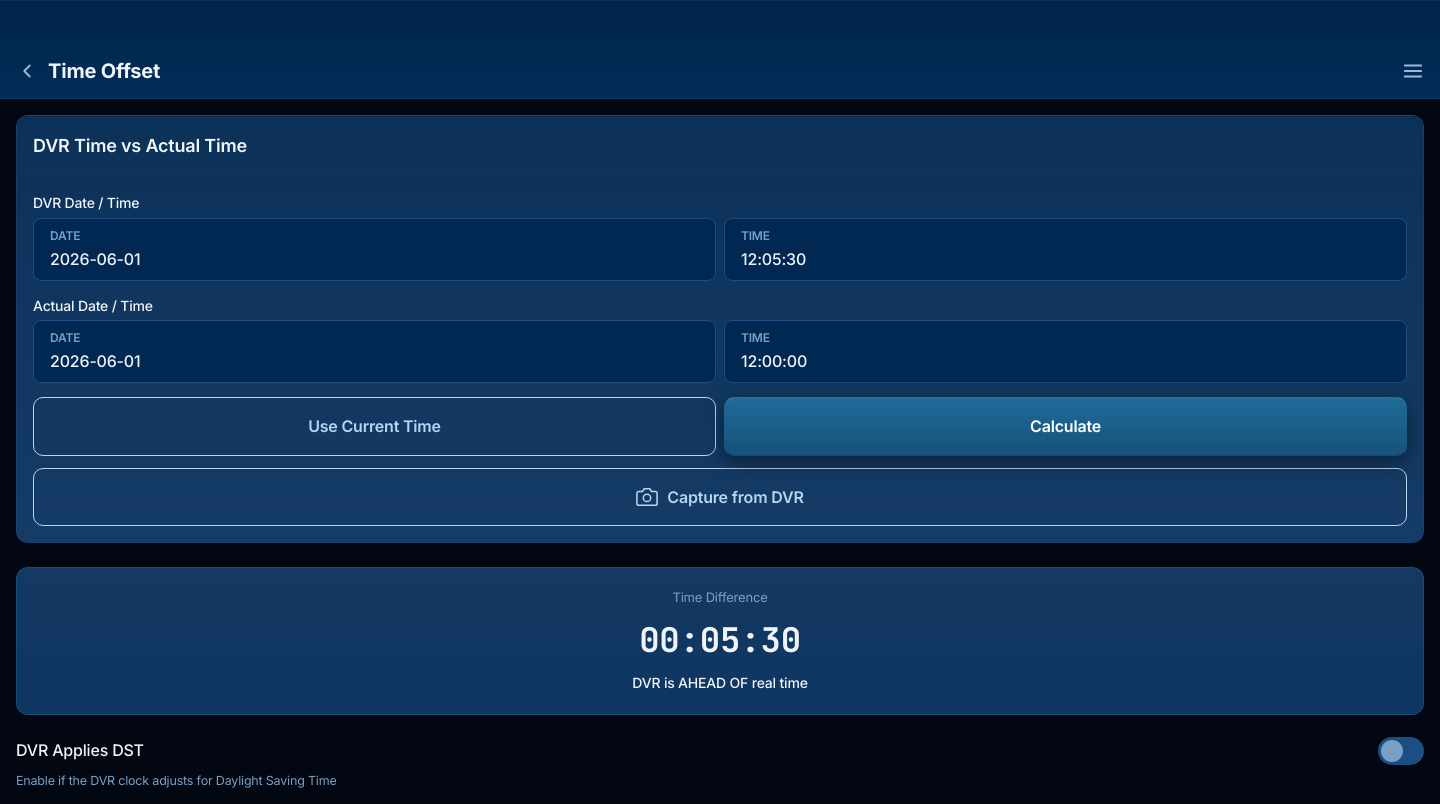
Test case: TimeOffsetScreen — recalculate guard › Continue proceeds and closes
This screenshot has width=1440, height=804.
Click the button "Calculate": click(1066, 426) [724,397,1407,456]
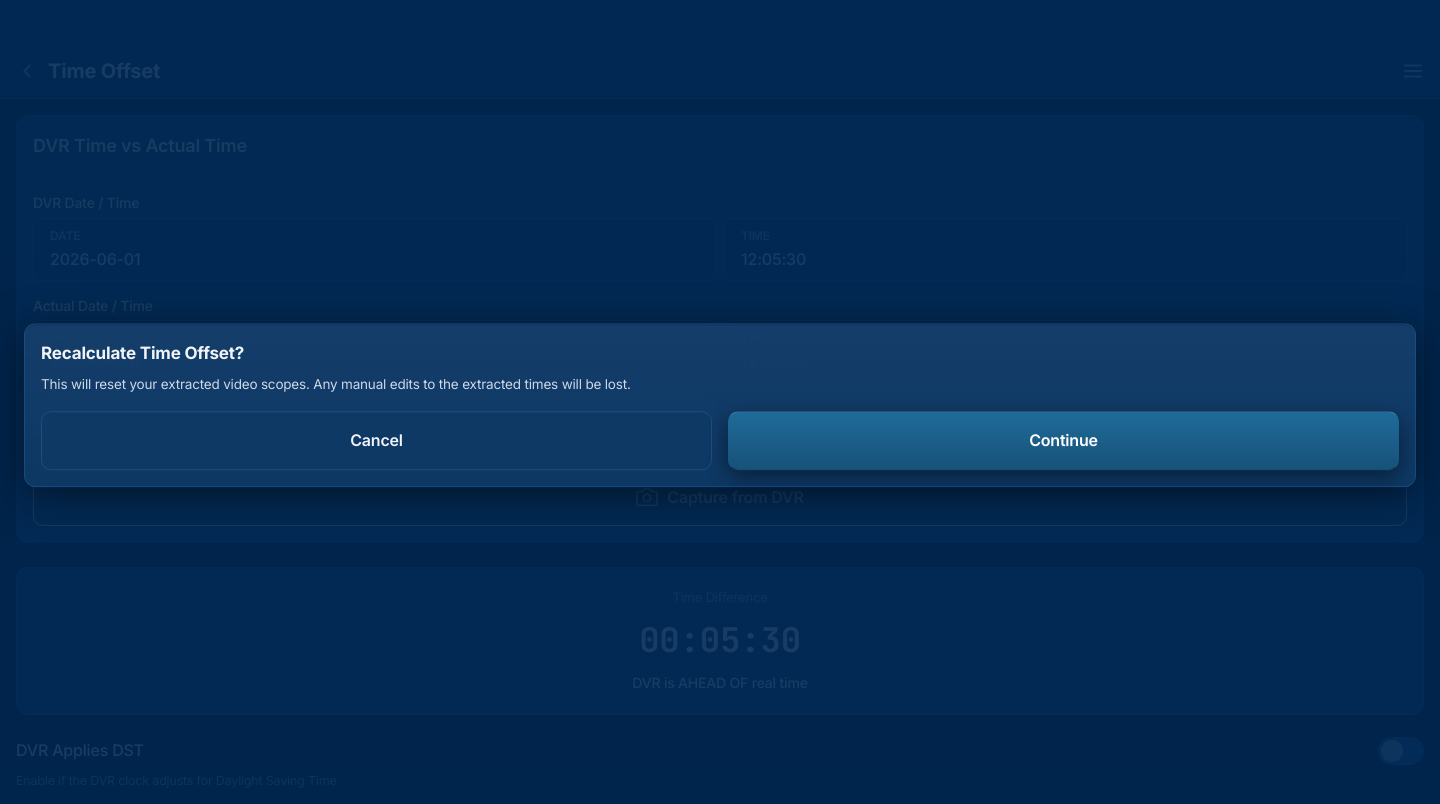
Click the button "Continue": click(1064, 440) [728,411,1399,470]
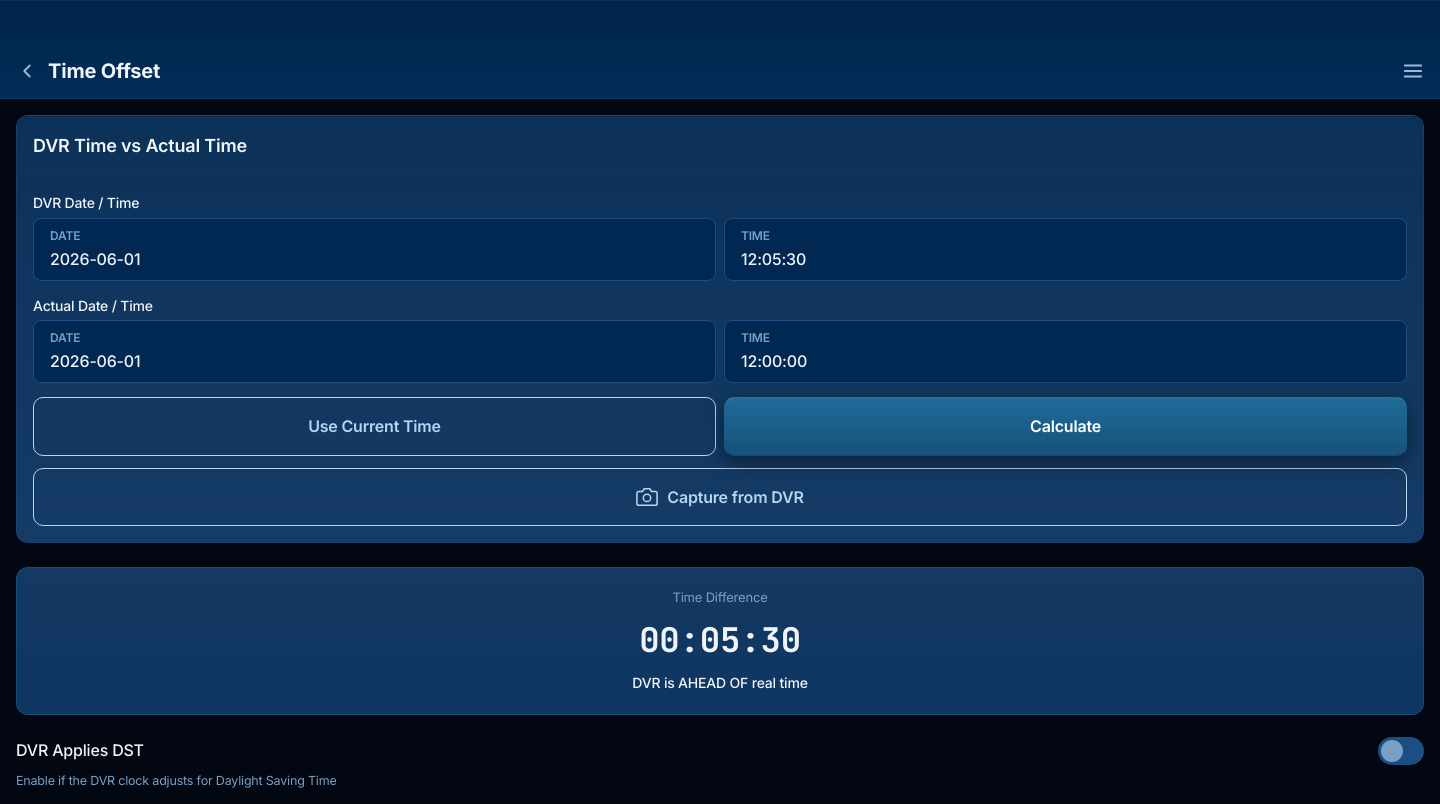
Now the dialog is gone
